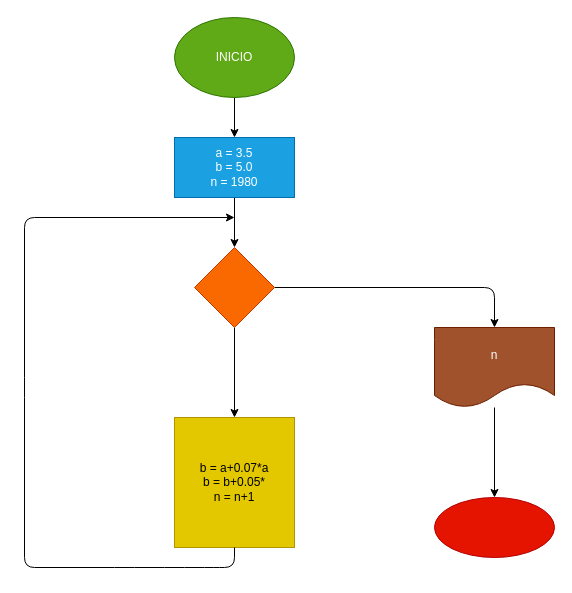
The diagram is 572 pixels wide and 593 high, and some of its shapes have lost their labels. The shapes that lost their labels are listed below. From the top down, each one's centre as x and y in pixels, then its label:
At (x=234, y=287): "a < b".
At (x=494, y=527): "FIN".
